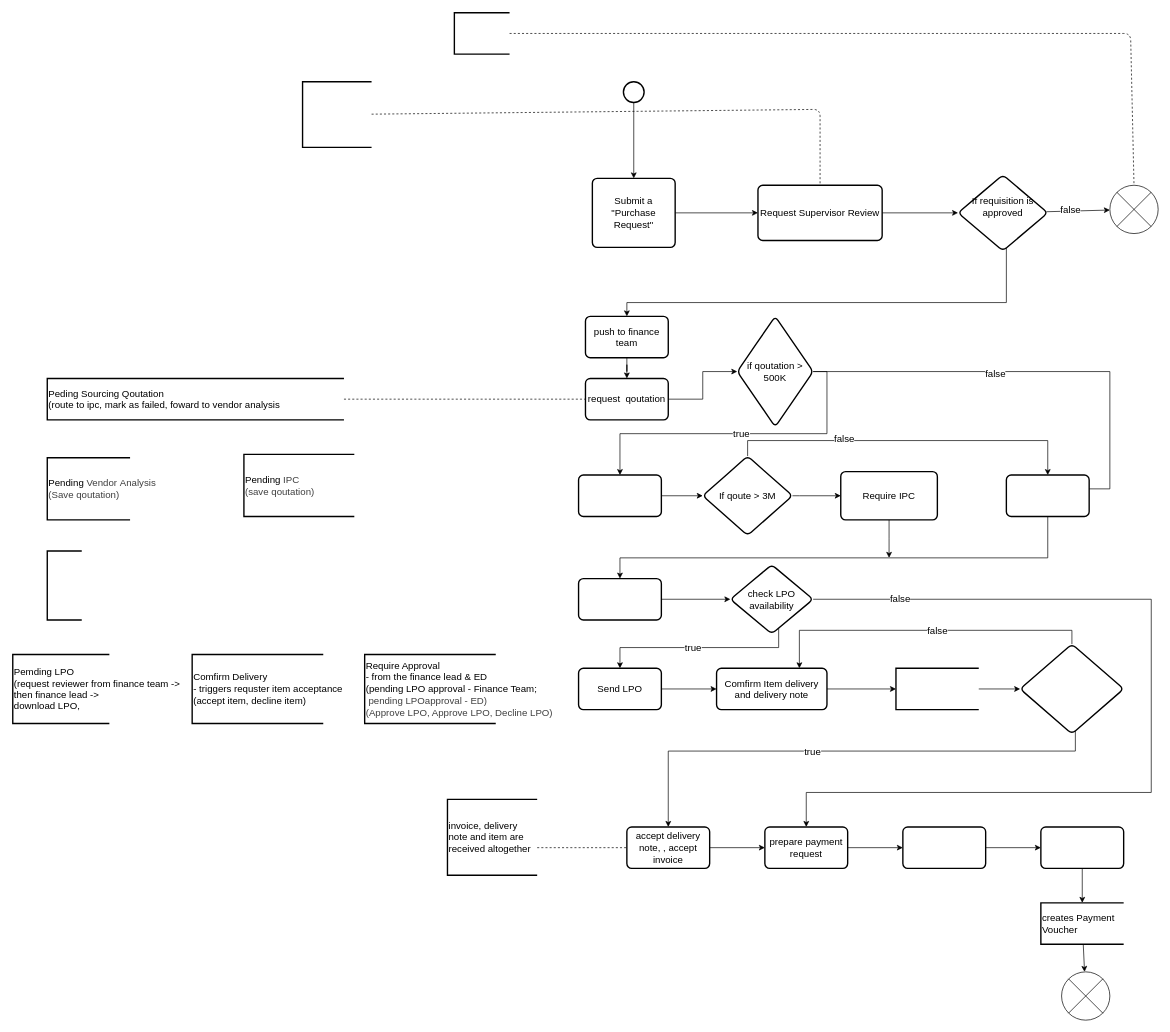
The diagram is 1170 pixels wide and 1032 high, and some of its shapes have lost their labels. Here are the shapes that lost their labels. From the top down, the box of each, then its label:
(453, 12, 510, 55): Requisition Declined
(302, 81, 372, 148): Pending Supervisor review (recall, approve, decline, rescind)
(578, 474, 662, 517): require a MIN of 3 qoutation
(1005, 474, 1090, 517): do venor analysis
(46, 550, 82, 620): Checking LPO Availability (Route to LPO request/, forward to payment request)
(578, 578, 662, 620): Select Vendor
(895, 667, 979, 710): auto invites request item acceptance
(1019, 643, 1124, 734): accept item by PR initator
(902, 826, 986, 869): request review from program manager
(1040, 826, 1124, 869): request review from finance lead
